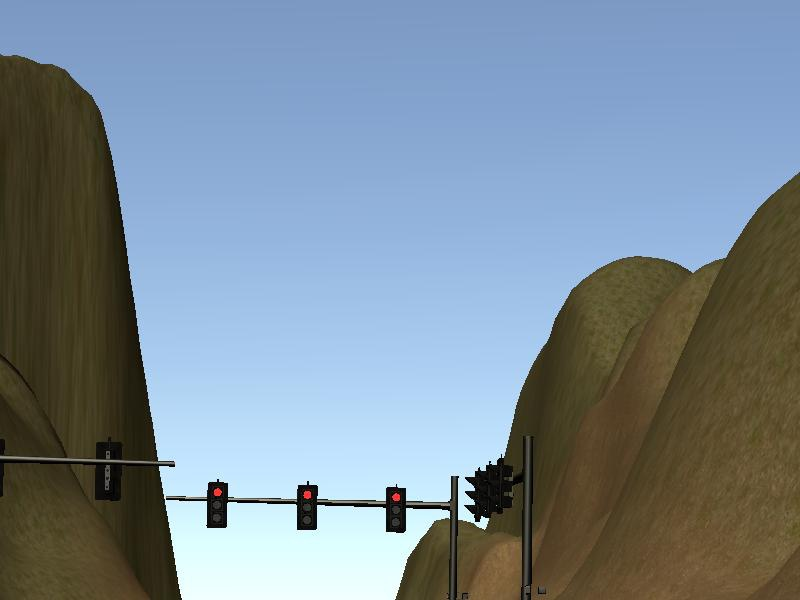Red: (382, 483, 410, 536), (204, 479, 229, 531), (294, 482, 319, 534)
